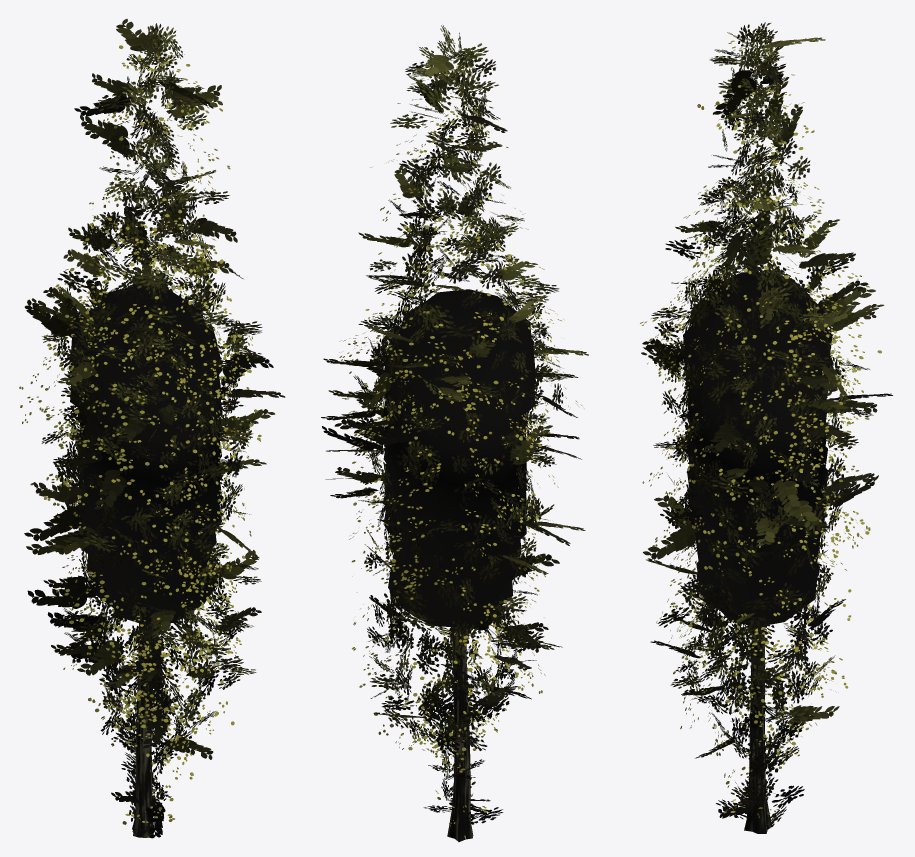
File: AraTree01.glb
The picture shows the model from 3 angles, left to right: view 1: azimuth 30°, elevation 25°; view 2: azimuth 150°, elevation 25°; view 3: azimuth 270°, elevation 25°; orthographic projection.
Parts seen in each view (by area): view 1: AraTree01_leaves; view 2: AraTree01_leaves; view 3: AraTree01_leaves.
Part boxes in pixels (x1,y1,x2,y2): AraTree01_leaves: [19, 19, 285, 838]; AraTree01_leaves: [321, 25, 588, 841]; AraTree01_leaves: [640, 22, 892, 833].
Bounding box in the file's own units: 3.79 × 12.19 × 3.69.
3 materials, 2 textured.
